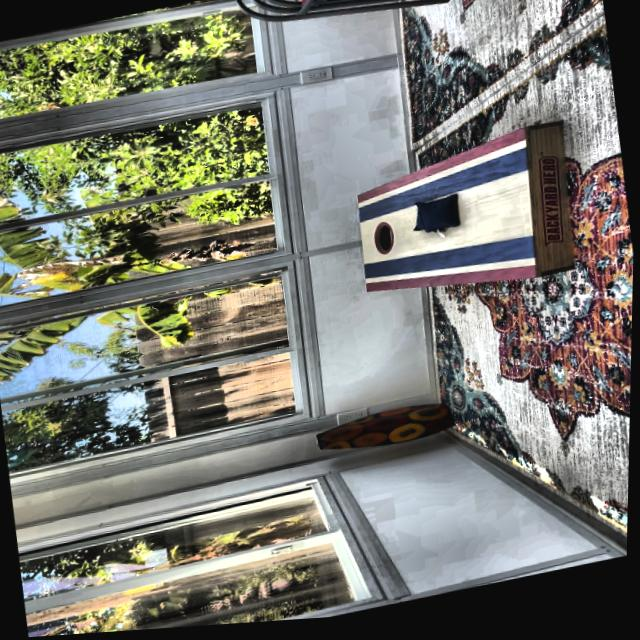blue-bean-bag: (419, 201, 462, 240), (408, 204, 443, 244)
board: (351, 155, 541, 306)
hole: (371, 225, 397, 263)
